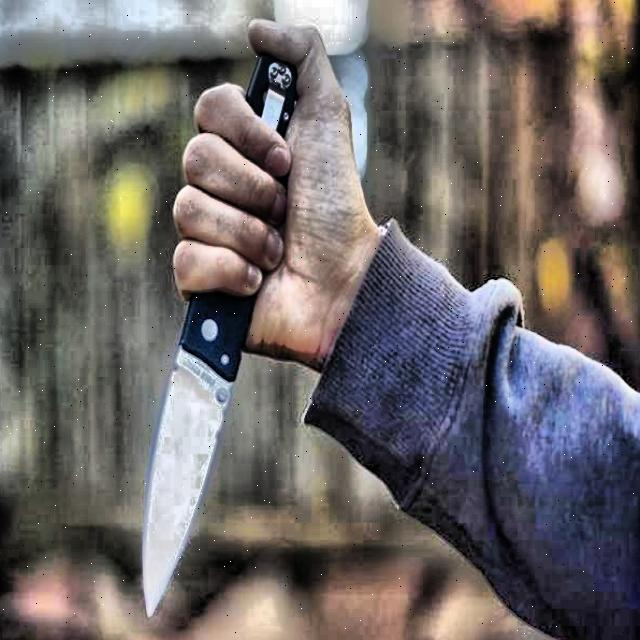knife: (142, 57, 292, 615)
